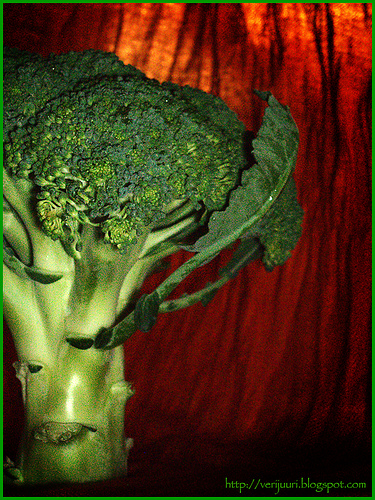broccoli: (0, 45, 250, 492)
